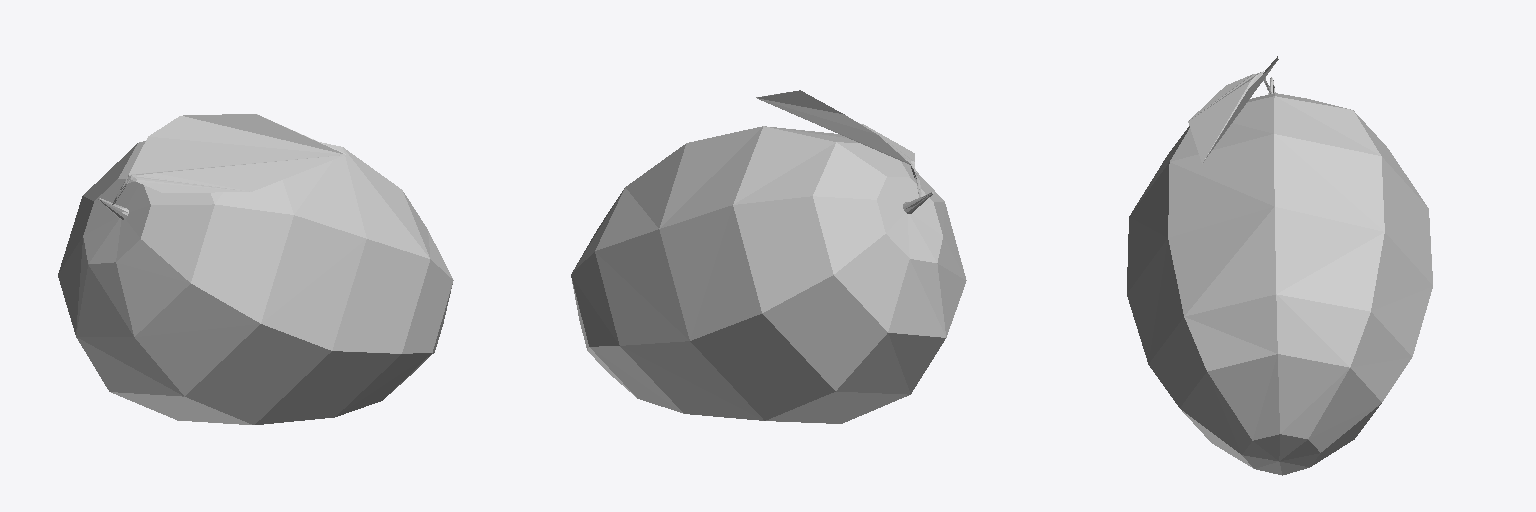
Rendered from mango.obj.
The picture shows the model from 3 angles: view 1: azimuth 30°, elevation 25°; view 2: azimuth 150°, elevation 25°; view 3: azimuth 270°, elevation 25°; orthographic projection.
Parts seen in each view (by area): view 1: mango, leaf; view 2: mango, leaf; view 3: mango, leaf.
Part boxes in pixels (bbox=[...]): mango: bbox=[58, 141, 453, 424]; leaf: bbox=[98, 114, 345, 219]; mango: bbox=[571, 126, 966, 423]; leaf: bbox=[756, 90, 933, 213]; mango: bbox=[1127, 93, 1432, 475]; leaf: bbox=[1188, 56, 1278, 163].
Size of the model in its own units: 0.2389 by 0.2032 by 0.177.